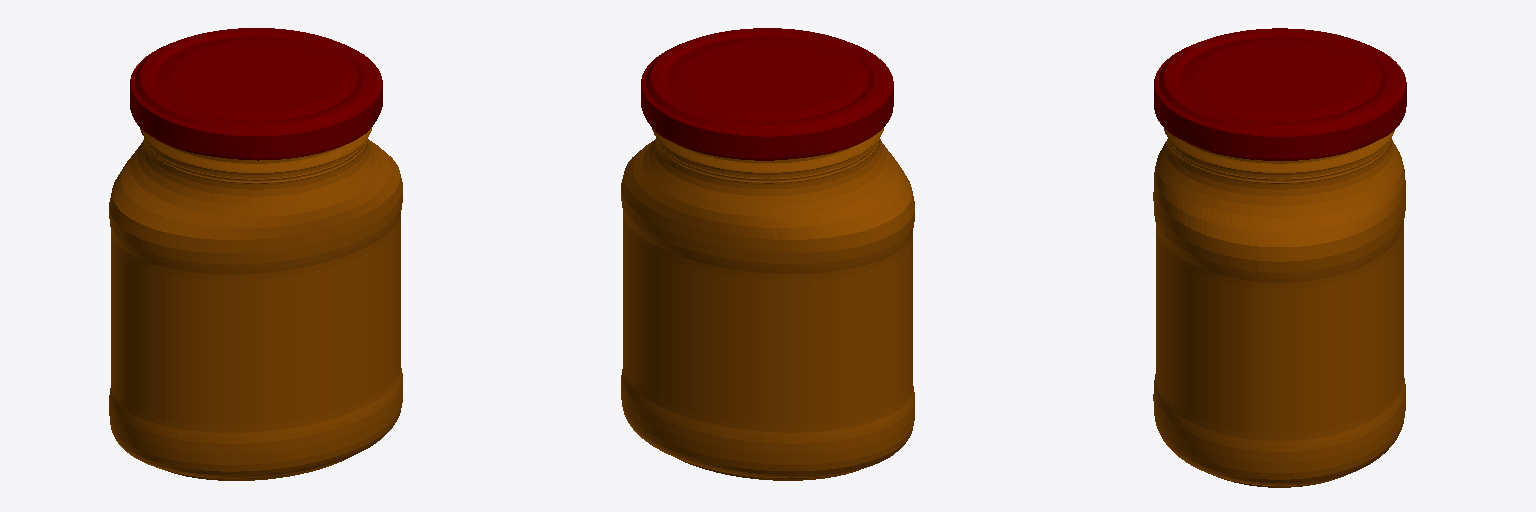
File: miel.obj
3 views of the same model, side by side, from view 1: azimuth 30°, elevation 25°; view 2: azimuth 150°, elevation 25°; view 3: azimuth 270°, elevation 25° (orthographic).
Parts seen in each view (by area): view 1: jar_glass; view 2: jar_glass; view 3: jar_glass.
Part boxes in pixels (x1,y1,x2,y2): jar_glass: (109, 28, 402, 480); jar_glass: (621, 28, 914, 480); jar_glass: (1153, 28, 1406, 487).
Size of the model in its own units: 1.38 by 1.78 by 1.14.